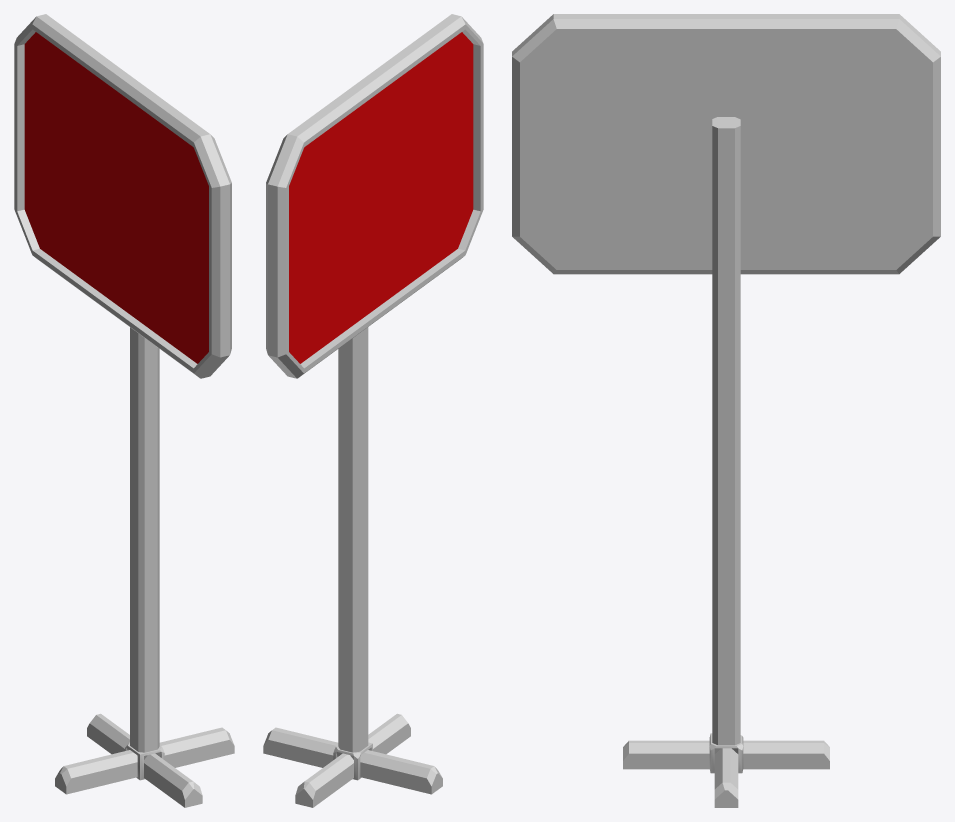
The model's file is MedBedInfo.fbx.
The picture shows the model from 3 angles, left to right: view 1: azimuth 30°, elevation 25°; view 2: azimuth 150°, elevation 25°; view 3: azimuth 270°, elevation 25°; orthographic projection. The views are drawn at different scales.
Visible parts, largest first — view 1: Cube.001; view 2: Cube.001; view 3: Cube.001.
Boxes of the visible parts, x1,y1,x2,y2 form: Cube.001: (14, 14, 234, 807); Cube.001: (263, 14, 483, 807); Cube.001: (512, 14, 940, 807).
Bounding box in the file's own units: 42.73 × 170 × 89.61.
